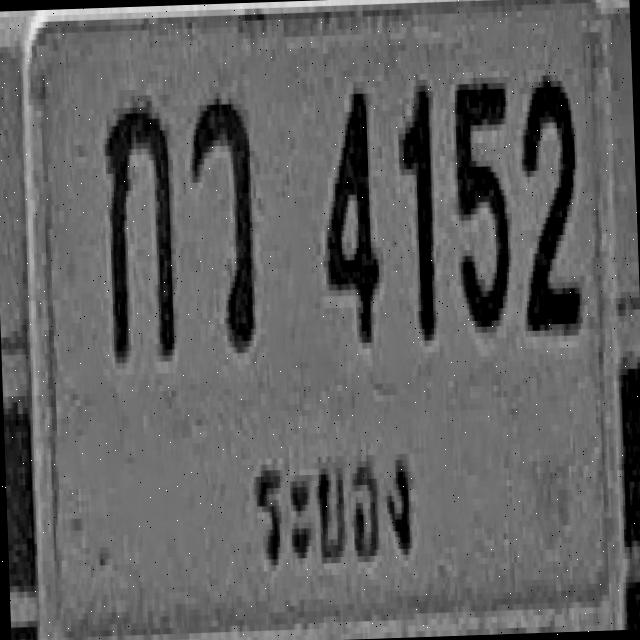1: (397, 82, 437, 338)
10GorGai: (102, 96, 176, 360)
2: (517, 68, 582, 330)
4: (319, 87, 381, 344)
46WorWaen: (188, 89, 257, 351)
5: (451, 74, 513, 330)
Rayong: (242, 427, 434, 591)
